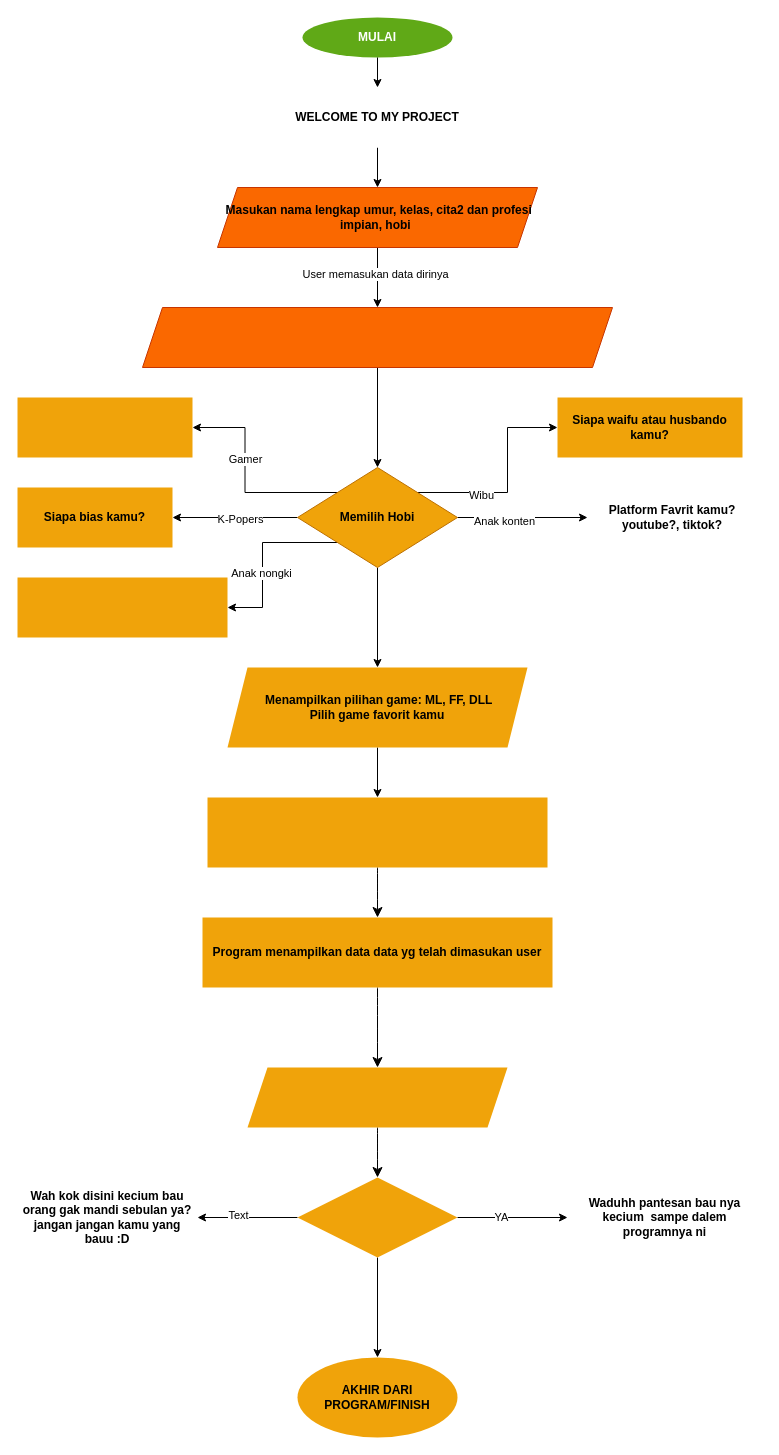
Image size: 779x1455. Some labels were removed from this diagram. Each missing label, with the centre of its shape:
Fun chek:"temen disebelah bau gak: (377,1097)
Menampilkan pilihan hobi: Wibu, Gamer, K-Popers, Anak konten, Anak nongki: (377,337)
Nongkrong paling sering dimana?: (122,607)
Program memasukan seluruh inputan kedalam variable: (377,832)
Ranked jalan terussss: (104,427)
YA/TIDAK: (377,1217)
